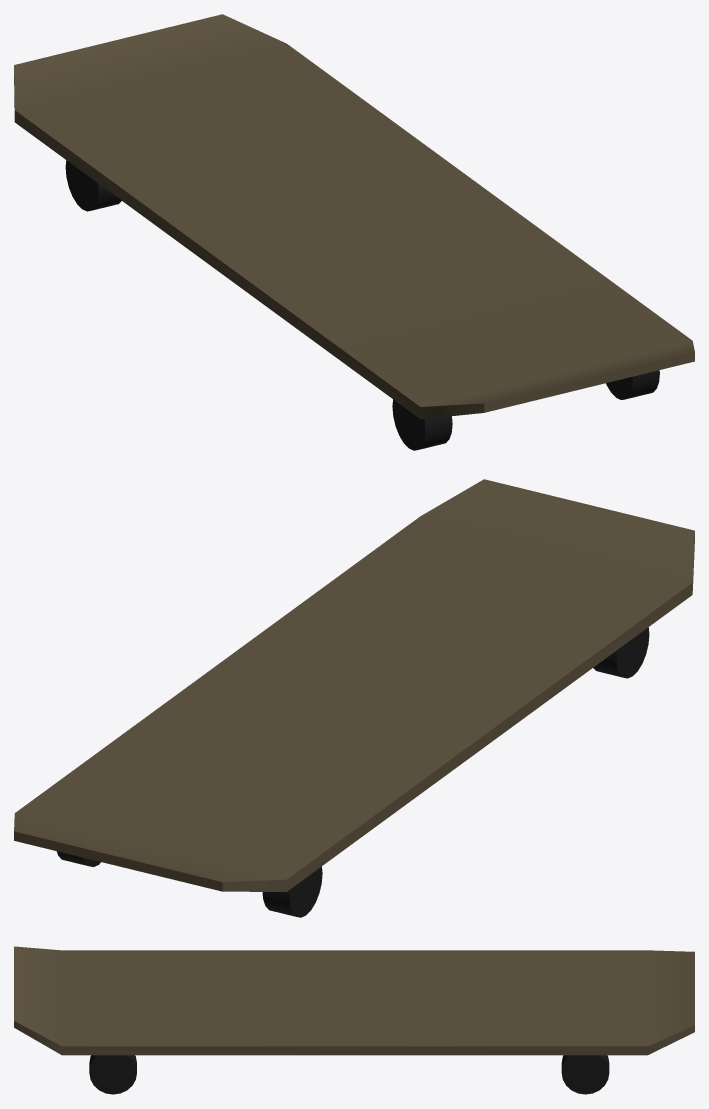
The model's file is skateboard.fbx.
3 renders of one model, top to bottom at view 1: azimuth 30°, elevation 25°; view 2: azimuth 150°, elevation 25°; view 3: azimuth 270°, elevation 25°, orthographic. The views are drawn at different scales.
Parts seen in each view (by area): view 1: Board, Wheel_2, Wheel_3, Wheel_1; view 2: Board, Wheel_3, Wheel_2; view 3: Board, Wheel_4, Wheel_1.
Part boxes in pixels (x1=…): Board: x1=14, y1=14, x2=694, y2=419; Wheel_2: x1=392, y1=399, x2=452, y2=450; Wheel_3: x1=65, y1=160, x2=121, y2=211; Wheel_1: x1=606, y1=370, x2=659, y2=399; Board: x1=14, y1=479, x2=694, y2=891; Wheel_3: x1=262, y1=866, x2=322, y2=917; Wheel_2: x1=593, y1=627, x2=649, y2=678; Board: x1=14, y1=946, x2=694, y2=1055; Wheel_4: x1=561, y1=1055, x2=609, y2=1094; Wheel_1: x1=89, y1=1055, x2=136, y2=1094.
Size of the model in its own units: 0.3334 by 0.1098 by 1.
